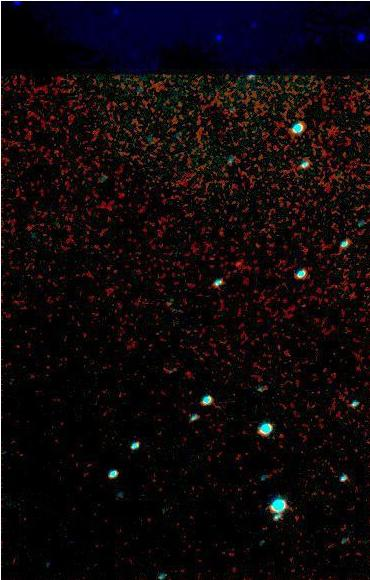star: (224, 248, 254, 278)
